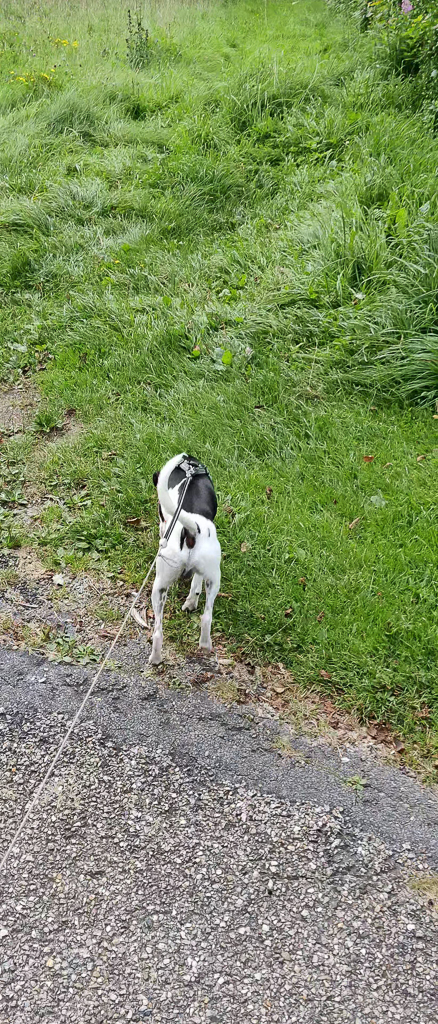Dog: (120, 429, 250, 703)
